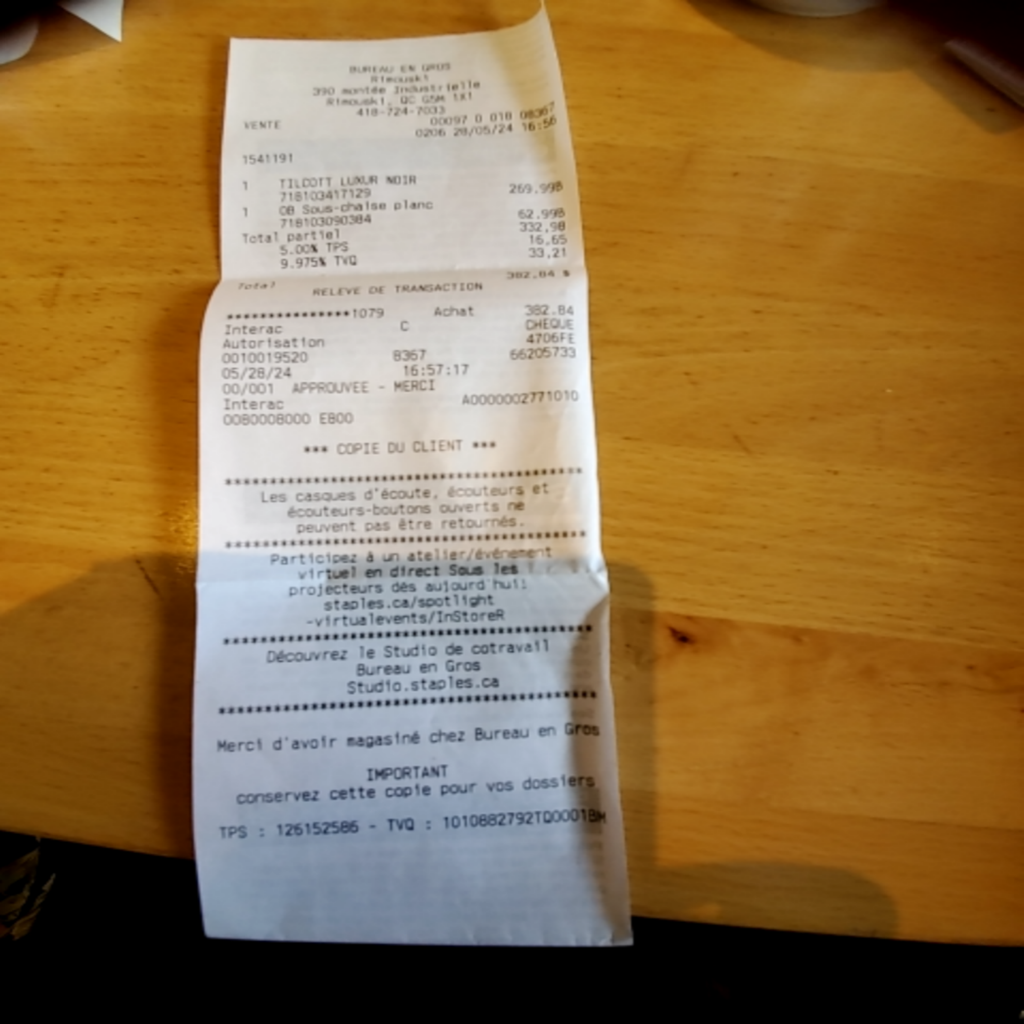recipt: (191, 0, 629, 946)
